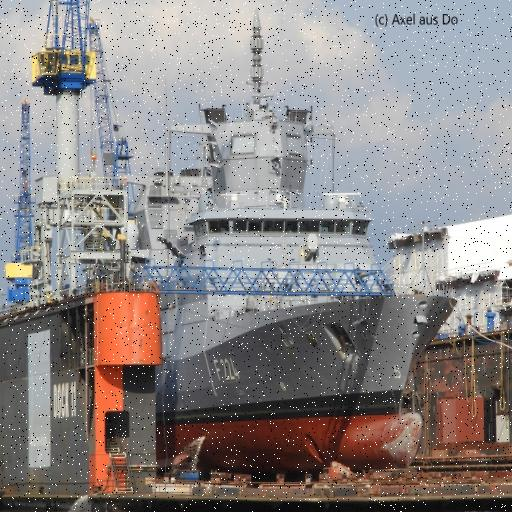Fragata: (121, 1, 466, 465)
